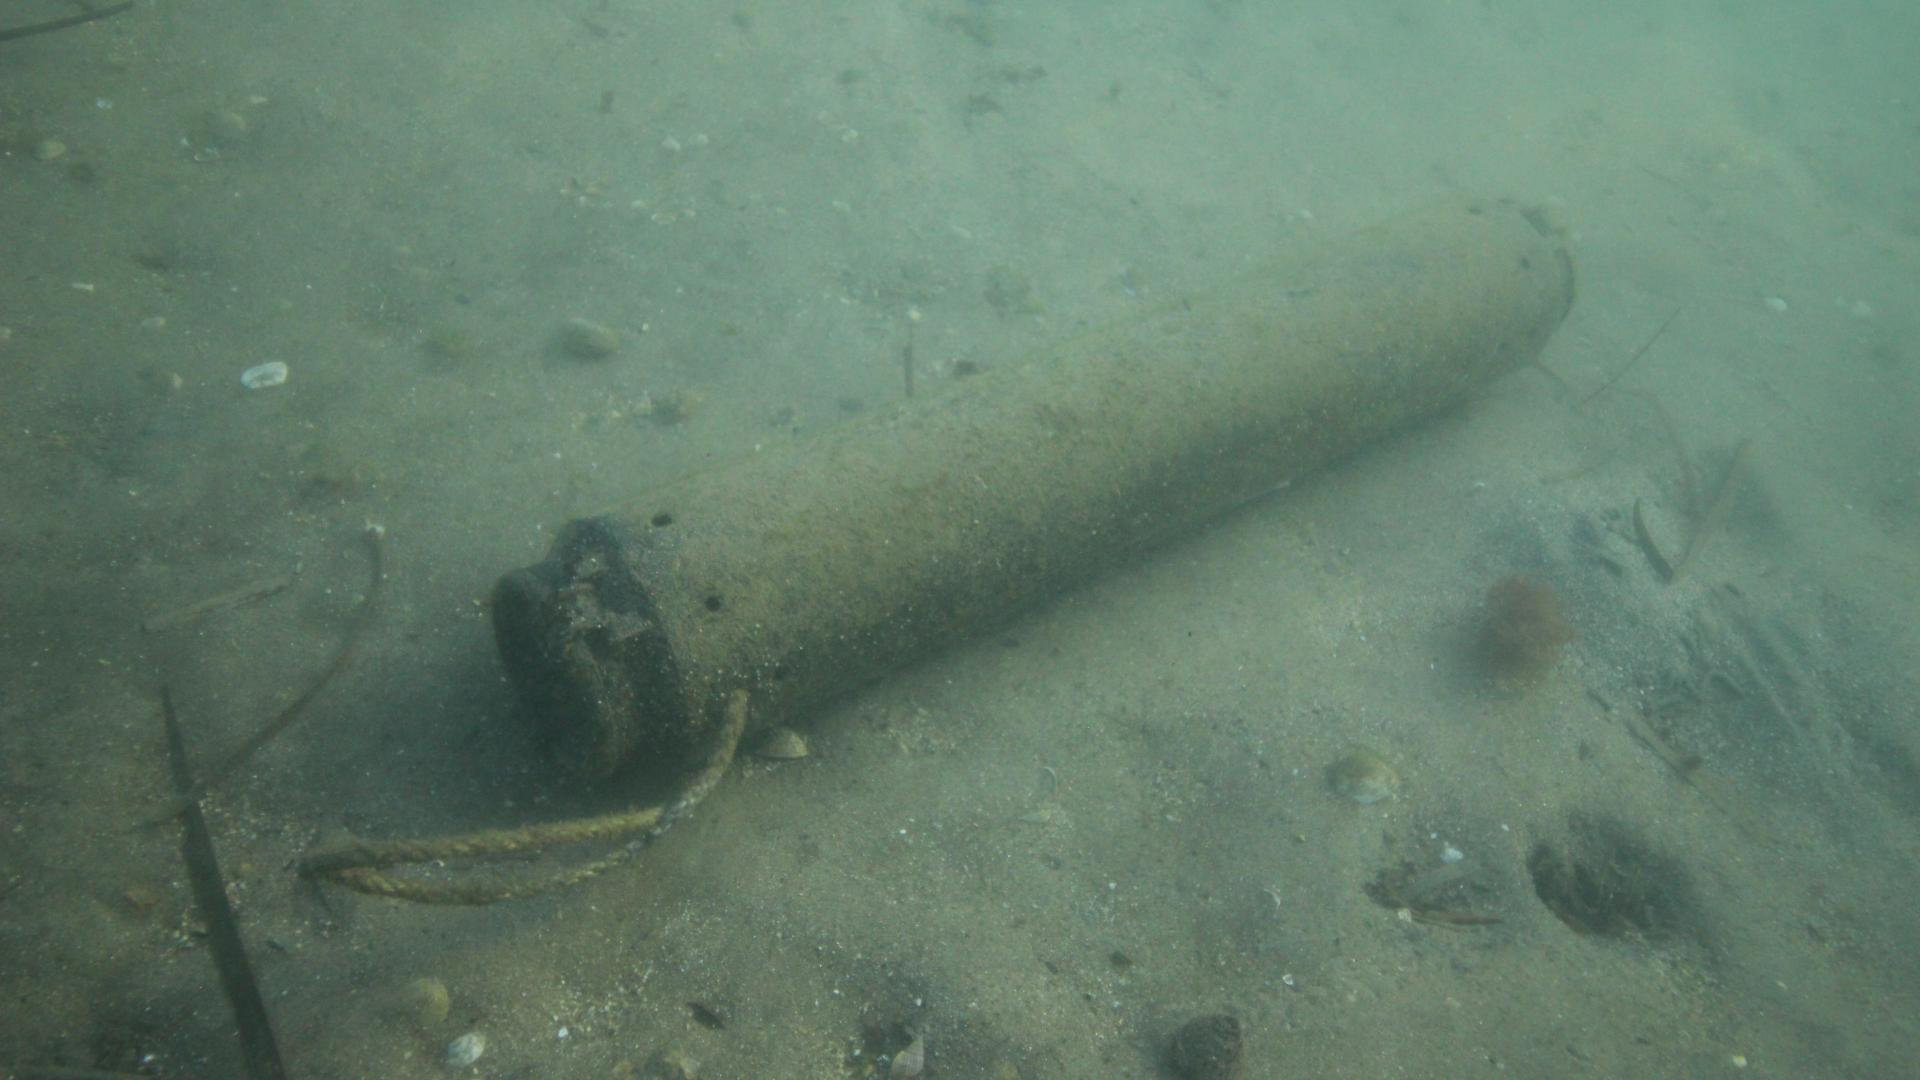eel fish trap: (492, 190, 1577, 783)
rope: (297, 688, 752, 901)
